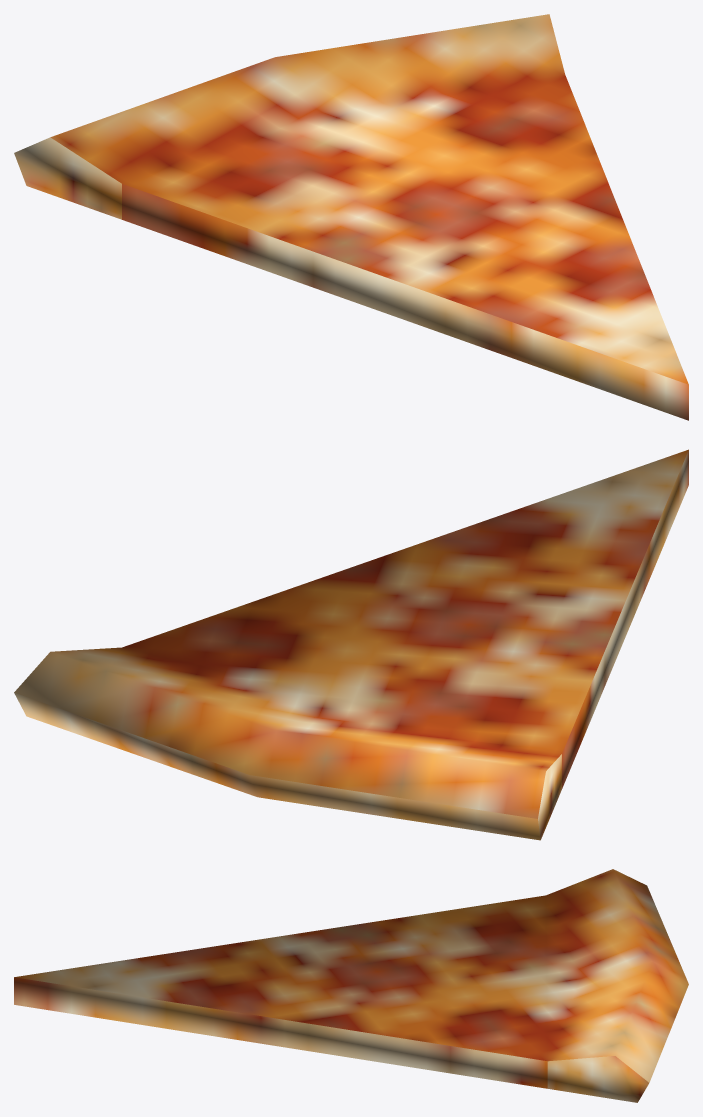
File: pepperoni slice 2.fbx
The picture shows the model from 3 angles, top to bottom: view 1: azimuth 30°, elevation 25°; view 2: azimuth 150°, elevation 25°; view 3: azimuth 270°, elevation 25°; orthographic projection. The views are drawn at different scales.
Parts seen in each view (by area): view 1: slice pepperoni 2; view 2: slice pepperoni 2; view 3: slice pepperoni 2.
Boxes of the visible parts, x1,y1,x2,y2 form: slice pepperoni 2: [14, 14, 688, 420]; slice pepperoni 2: [14, 449, 688, 840]; slice pepperoni 2: [14, 869, 688, 1102].
Bounding box in the file's own units: 12.56 × 1.29 × 18.15.
Materials: 1 (1 with a texture image).
